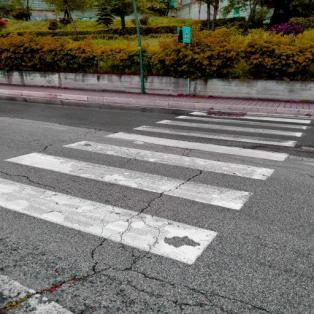Paso de Cebra: (0, 138, 276, 214)
